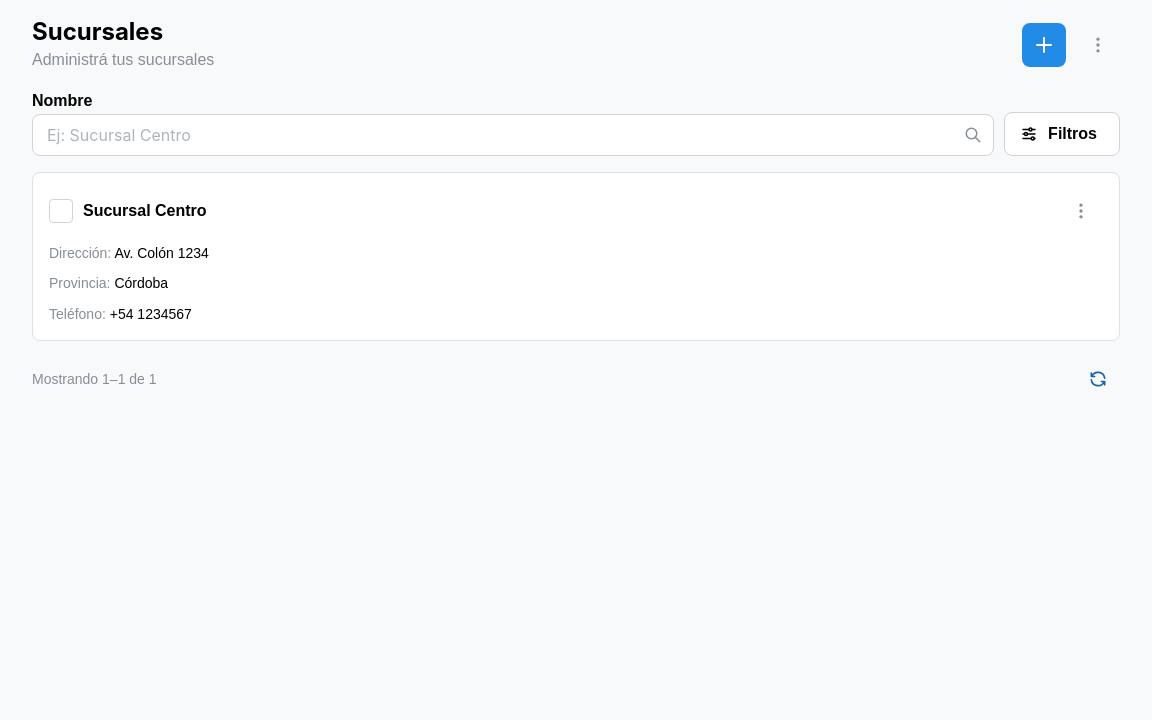
Test: ListaSucursales en mobile › abre la hoja de filtros con los campos secundarios
Expected: the element with test id "list-card" is shown, x1=32 y1=172 x2=1120 y2=341
Expected: the field labelled "Email" is not shown
Click the button "Filtros" at x=1062, y=134, box x1=1004 y1=112 x2=1120 y2=156
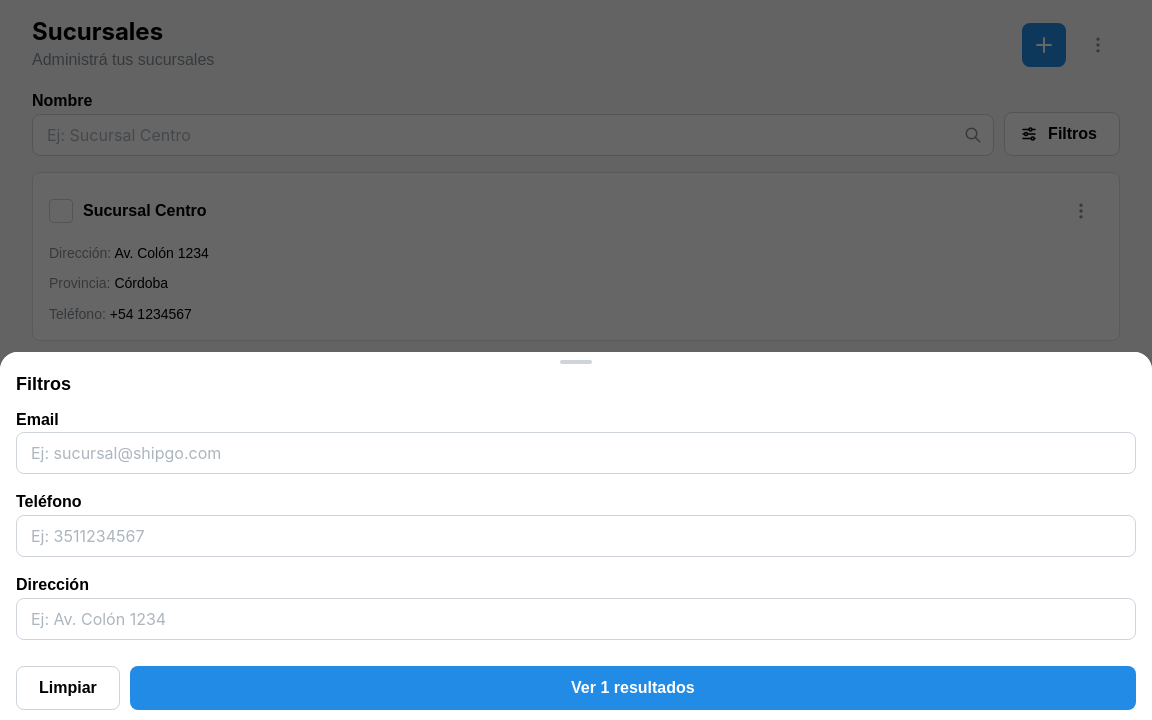
Expected: the field labelled "Email" is shown, x1=16 y1=432 x2=1136 y2=474
Expected: the field labelled "Teléfono" is shown, x1=16 y1=515 x2=1136 y2=557
